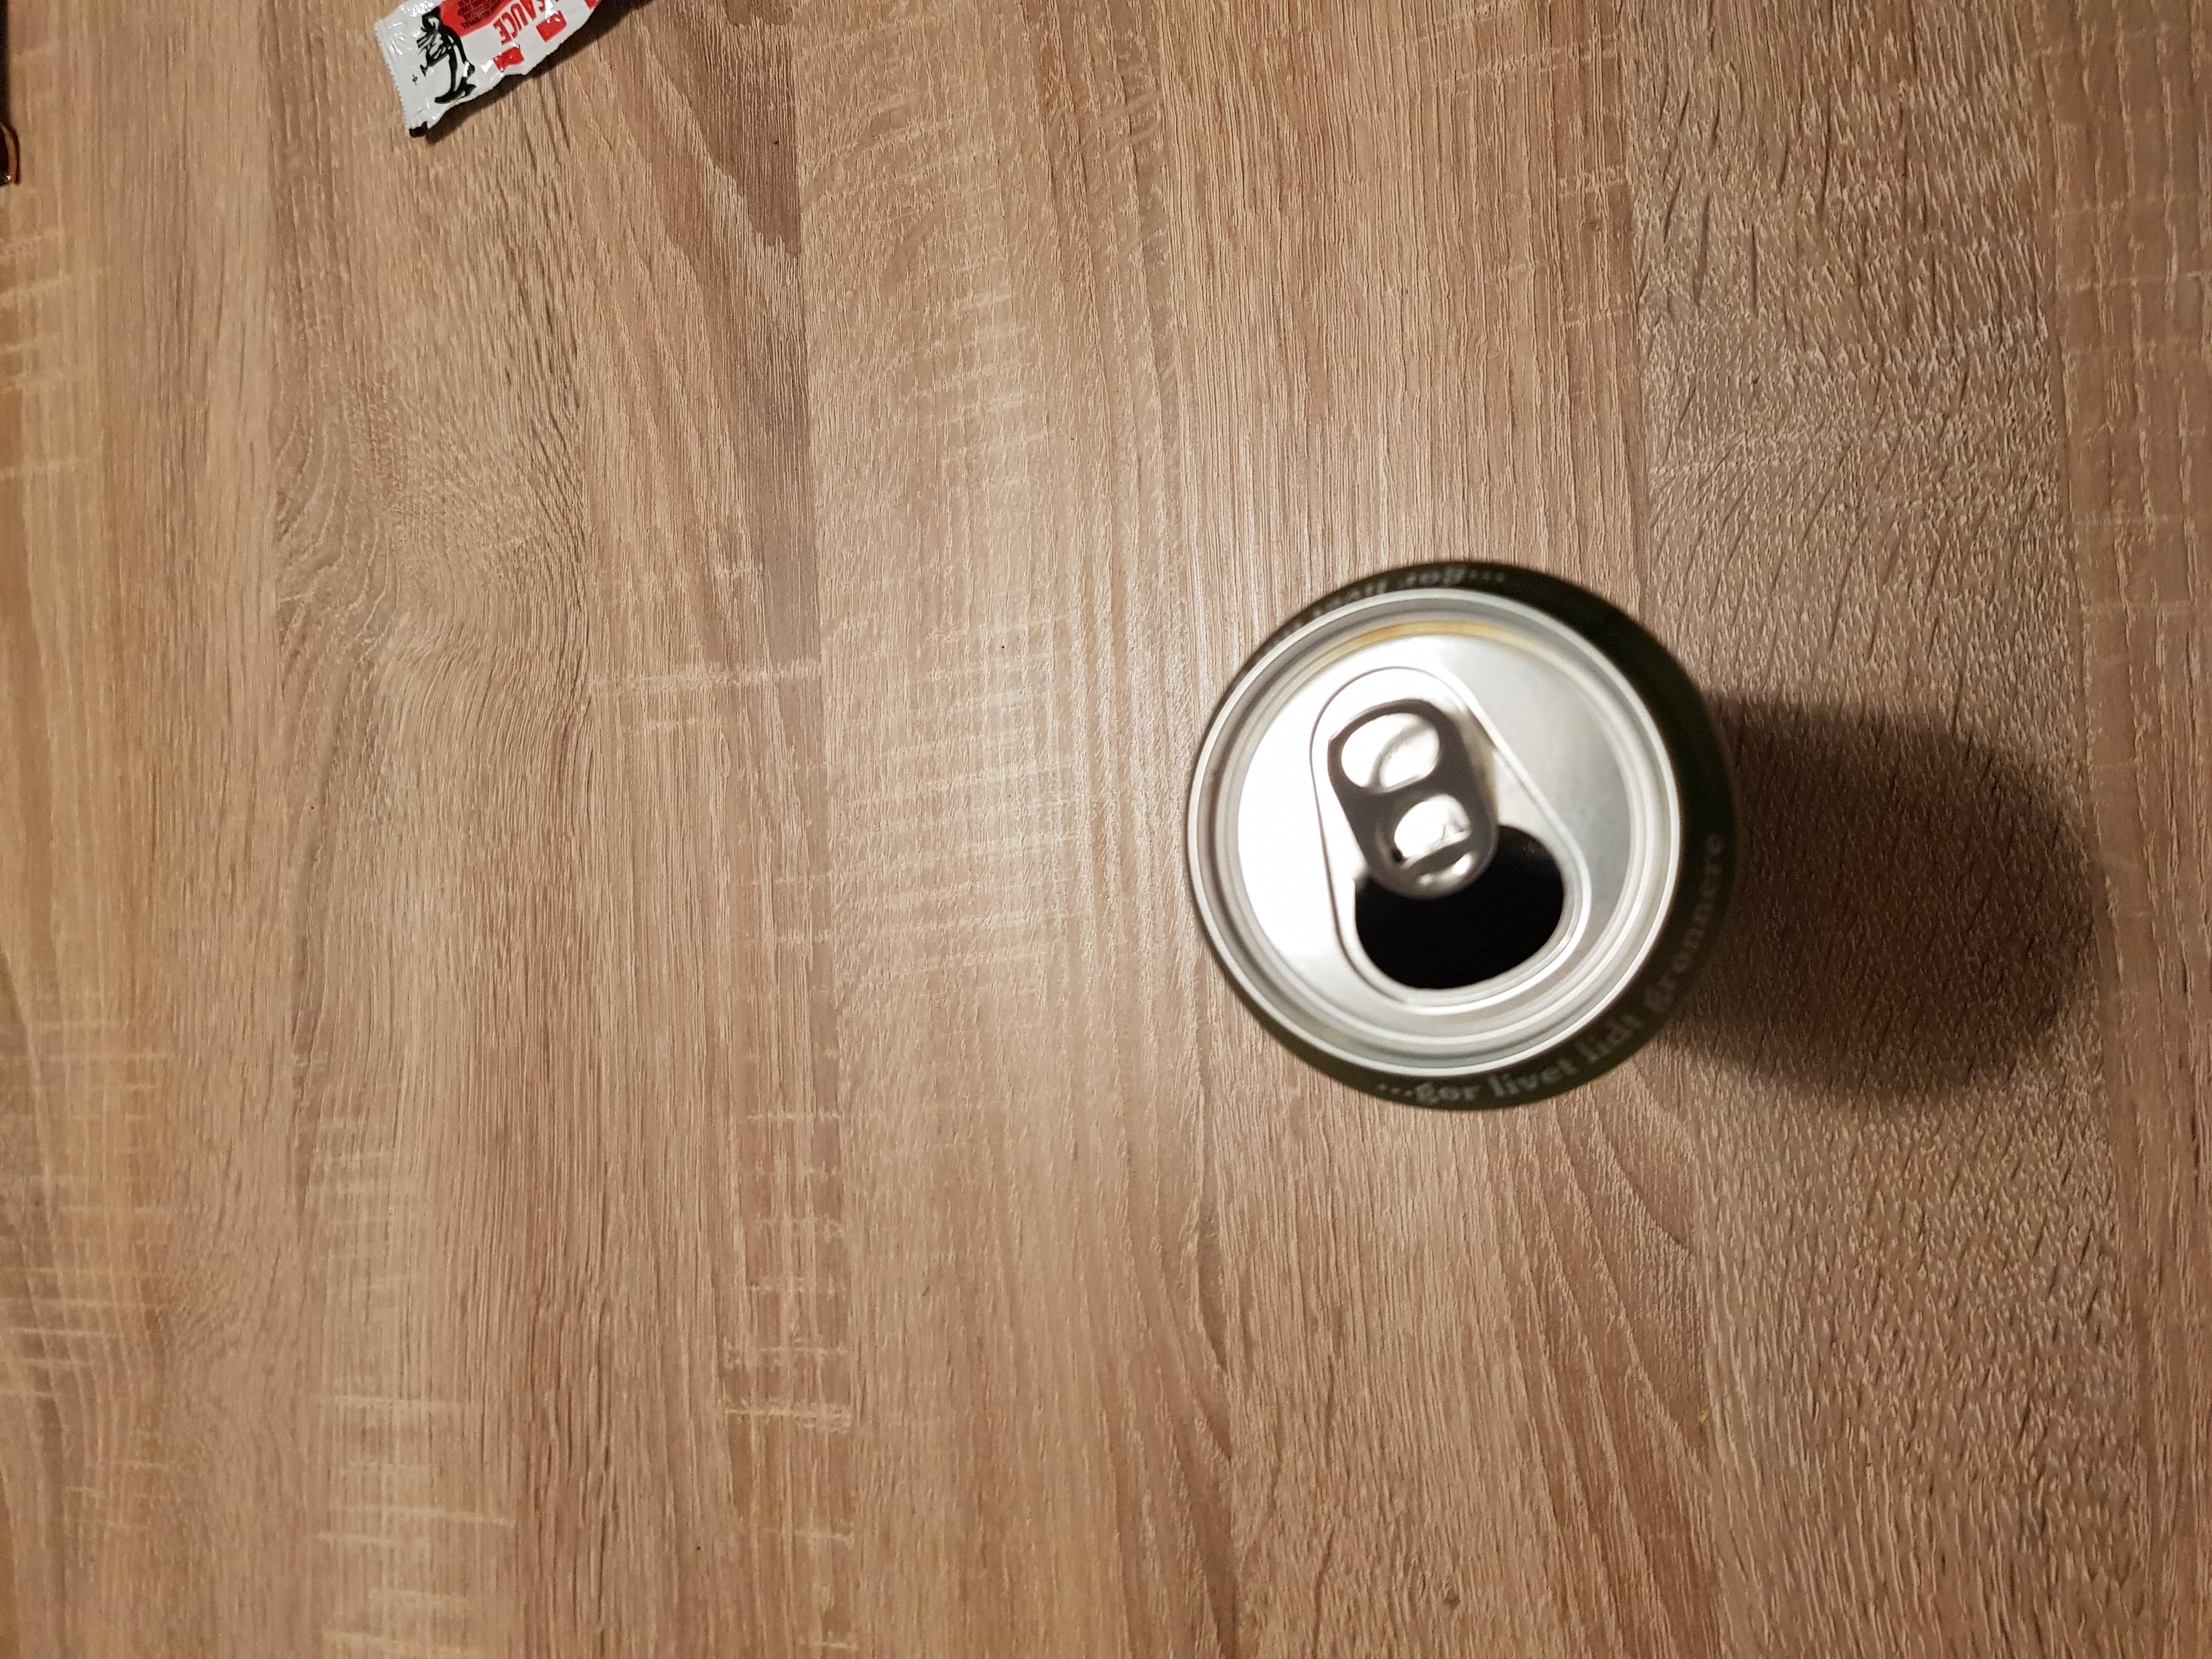Can: (1179, 552, 1745, 1126)
